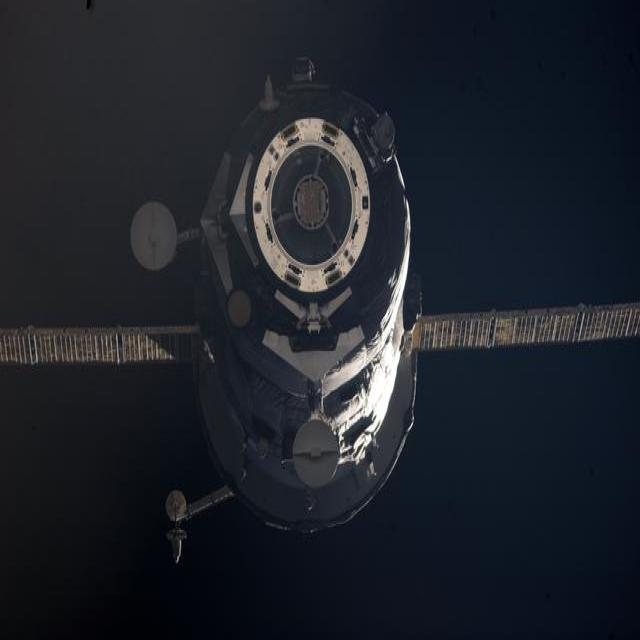medium_debris: (0, 60, 640, 560)
